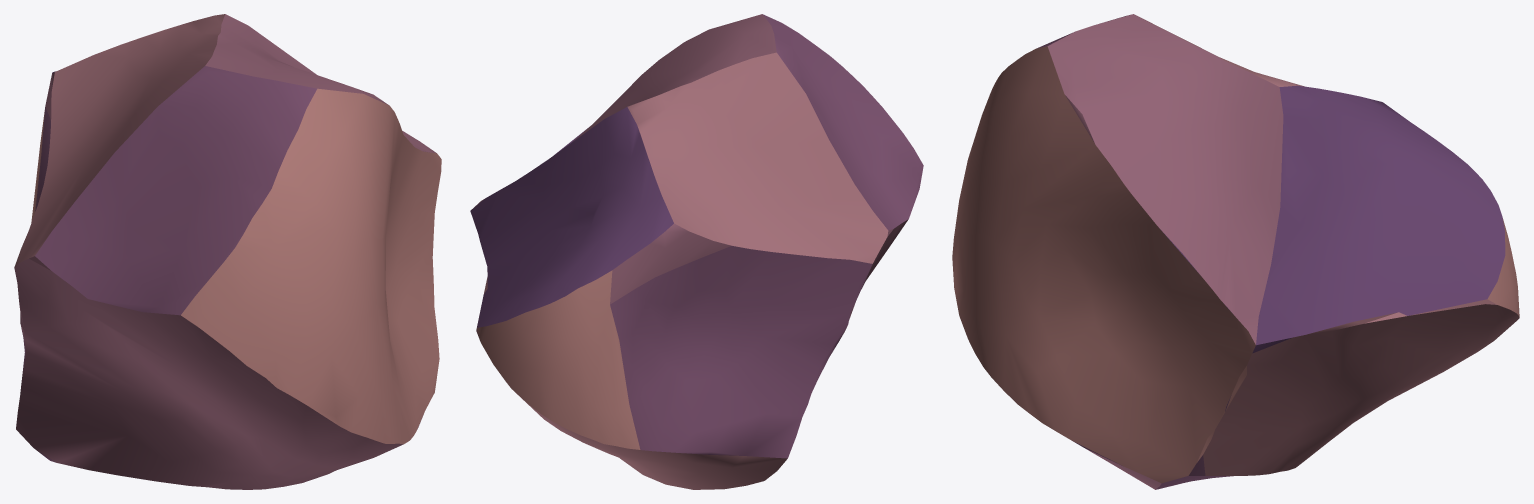
The model's file is rock4.fbx.
3 views of the same model, side by side, from view 1: azimuth 30°, elevation 25°; view 2: azimuth 150°, elevation 25°; view 3: azimuth 270°, elevation 25° (orthographic). The views are drawn at different scales.
Visible parts, largest first — view 1: Cube.002; view 2: Cube.002; view 3: Cube.002.
Part boxes in pixels (x1,y1,x2,y2): Cube.002: (14,14,441,489); Cube.002: (470,14,923,489); Cube.002: (952,14,1519,489).
Size of the model in its own units: 202 by 195 by 238.
